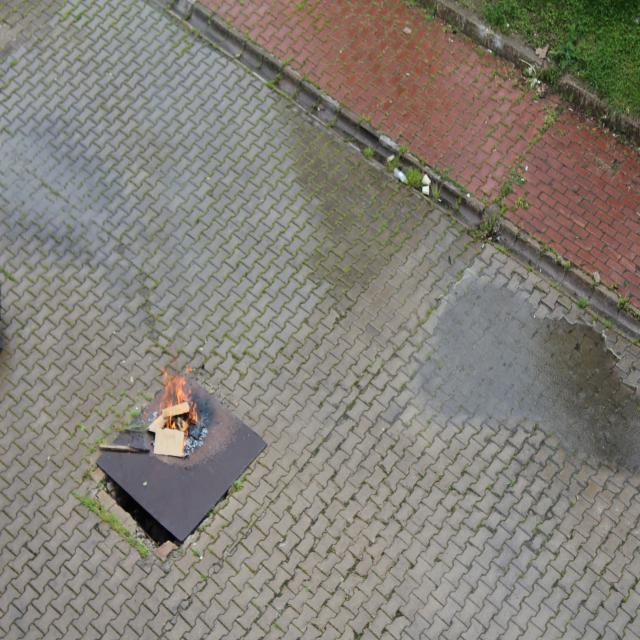fire: (152, 353, 201, 458)
